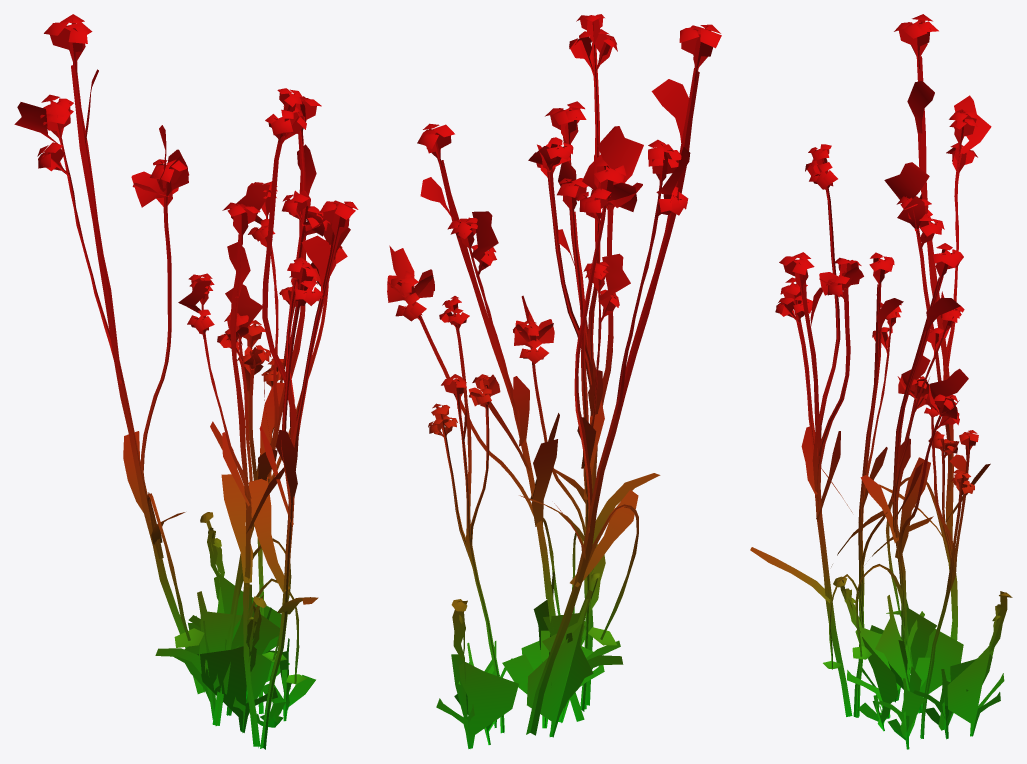
The model's file is Var1_LOD0.fbx.
3 renders of one model, left to right at view 1: azimuth 30°, elevation 25°; view 2: azimuth 150°, elevation 25°; view 3: azimuth 270°, elevation 25°, orthographic. The views are drawn at different scales.
Parts seen in each view (by area): view 1: _cb8e_Var1_LOD0; view 2: _cb8e_Var1_LOD0; view 3: _cb8e_Var1_LOD0.
Part boxes in pixels (<box>): _cb8e_Var1_LOD0: <box>14,14,358,749</box>; _cb8e_Var1_LOD0: <box>387,14,721,748</box>; _cb8e_Var1_LOD0: <box>750,14,1012,749</box>.
Size of the model in its own units: 25.53 by 58.42 by 21.64.
